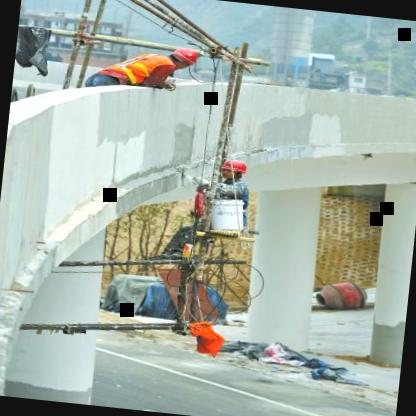helmet: (166, 44, 200, 72), (216, 156, 248, 184)
